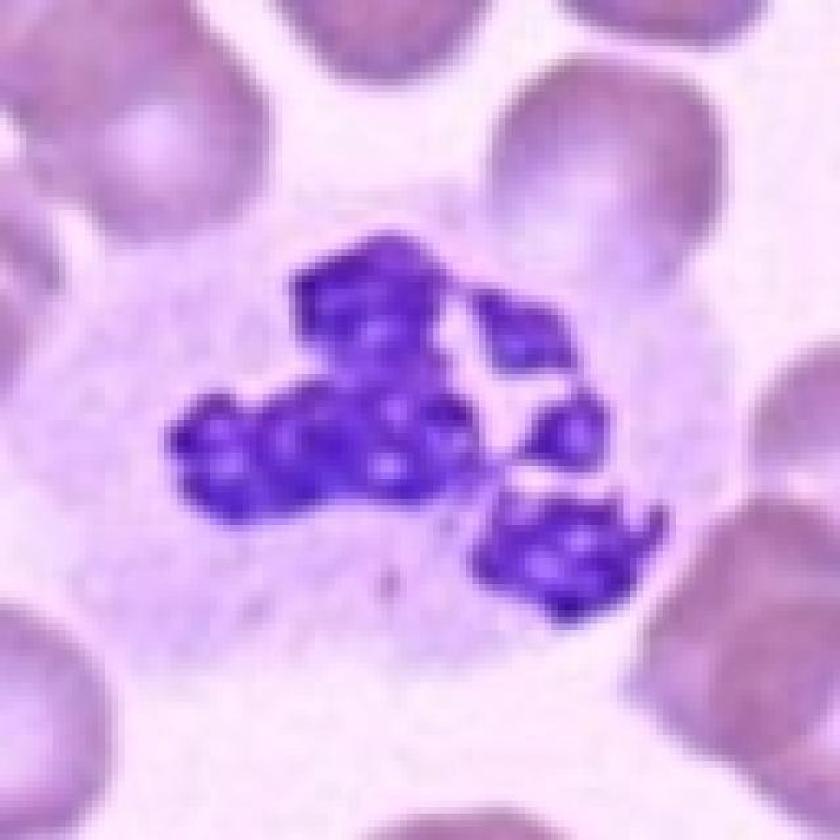neutrophil: (1, 174, 740, 684)
